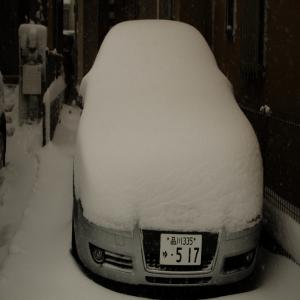Vehicle-registration-plate: (160, 234, 203, 267)
